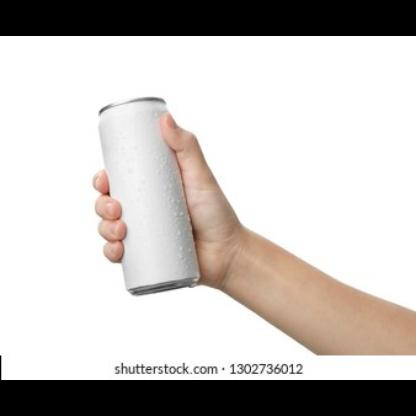Tin_Can: (94, 94, 204, 298)
